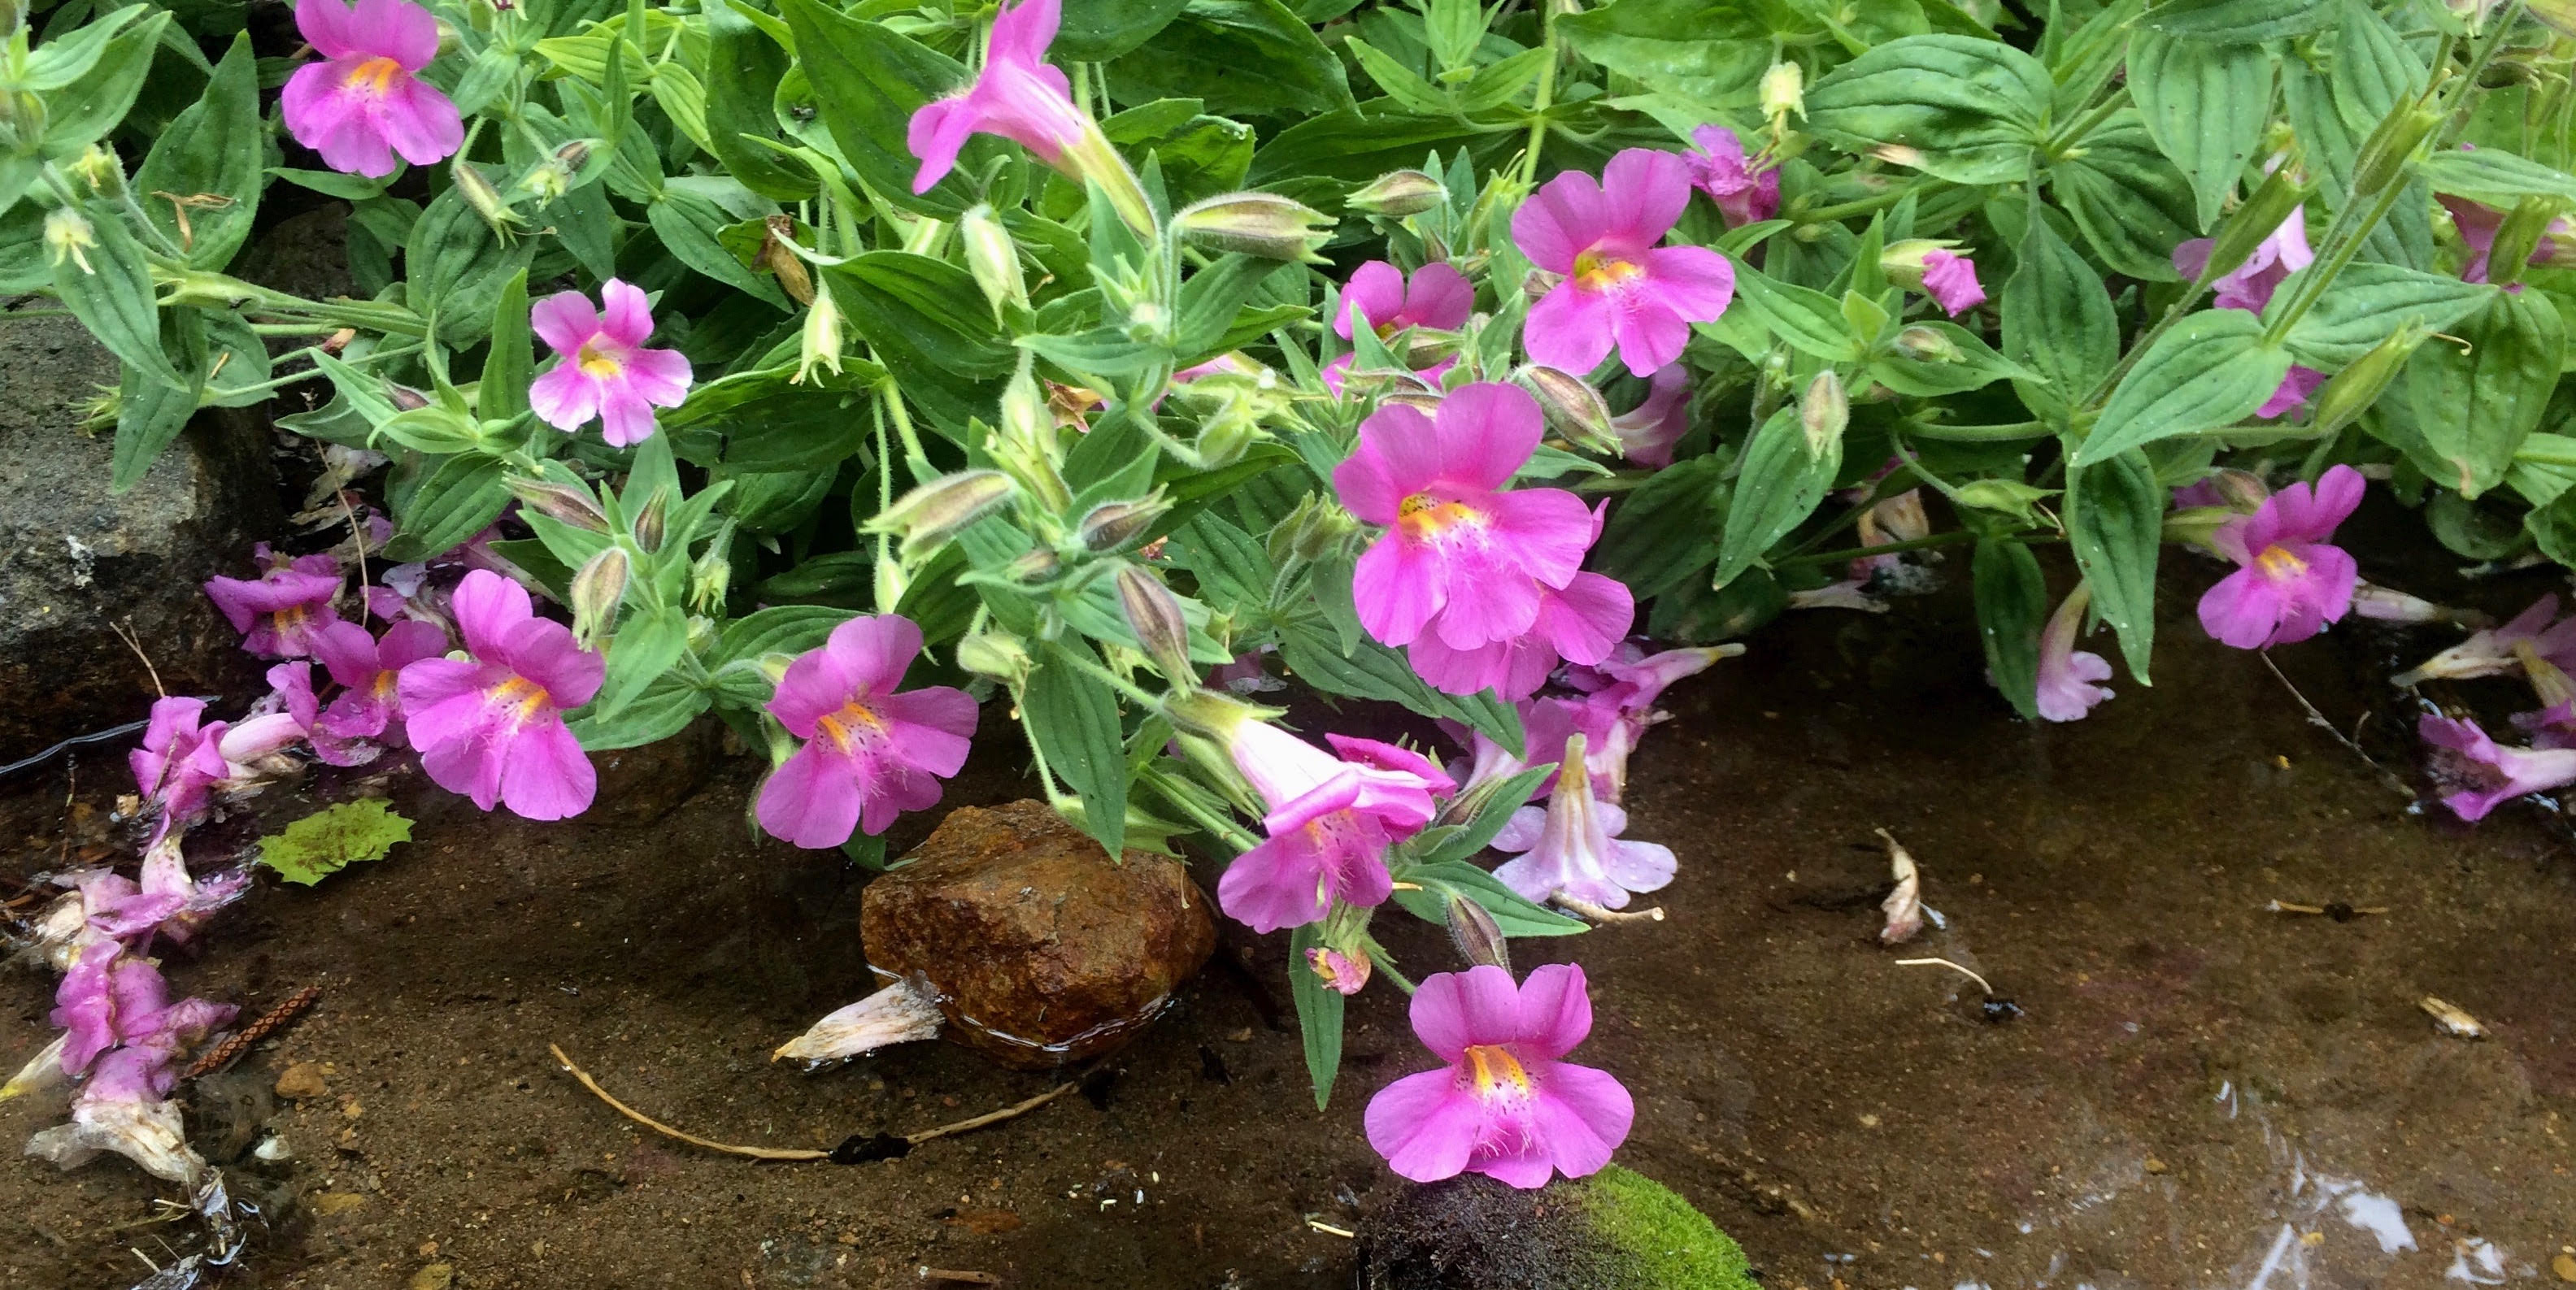plants: (7, 0, 2576, 520), (579, 523, 1385, 724)
